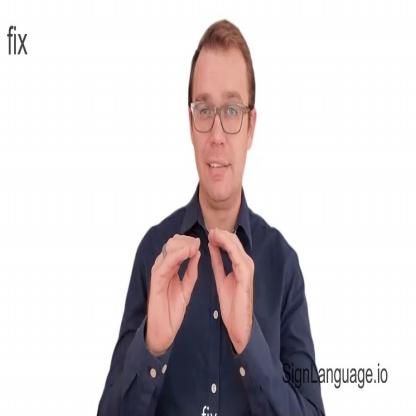Fix: (147, 227, 258, 368)
